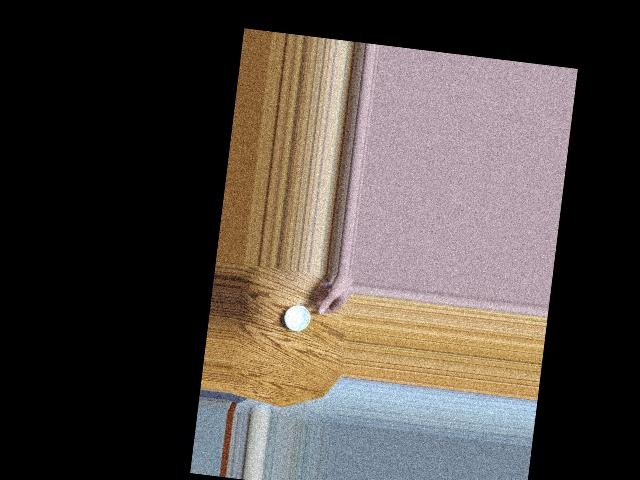cotage: (283, 297, 315, 333)
